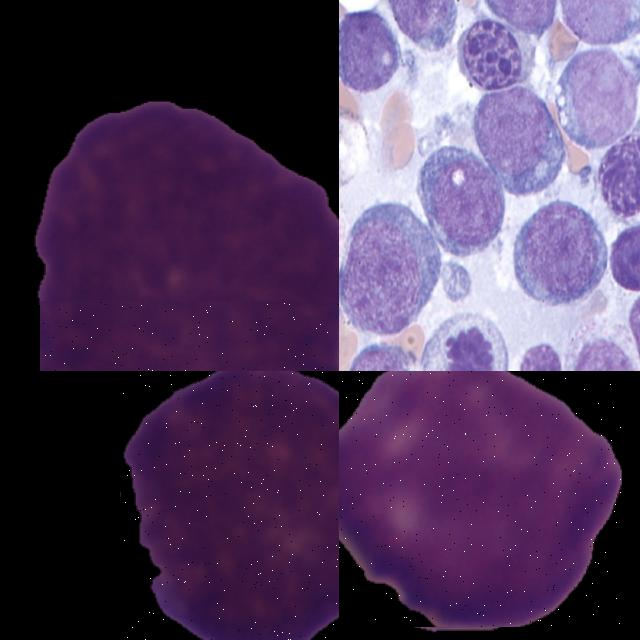ALL Negative Cells: (339, 371, 622, 627), (121, 371, 339, 640), (139, 306, 339, 371), (512, 203, 606, 304), (416, 143, 502, 251), (423, 314, 516, 371), (559, 0, 640, 42)
ALL Positive Cell: (461, 16, 535, 94), (601, 141, 640, 224)
